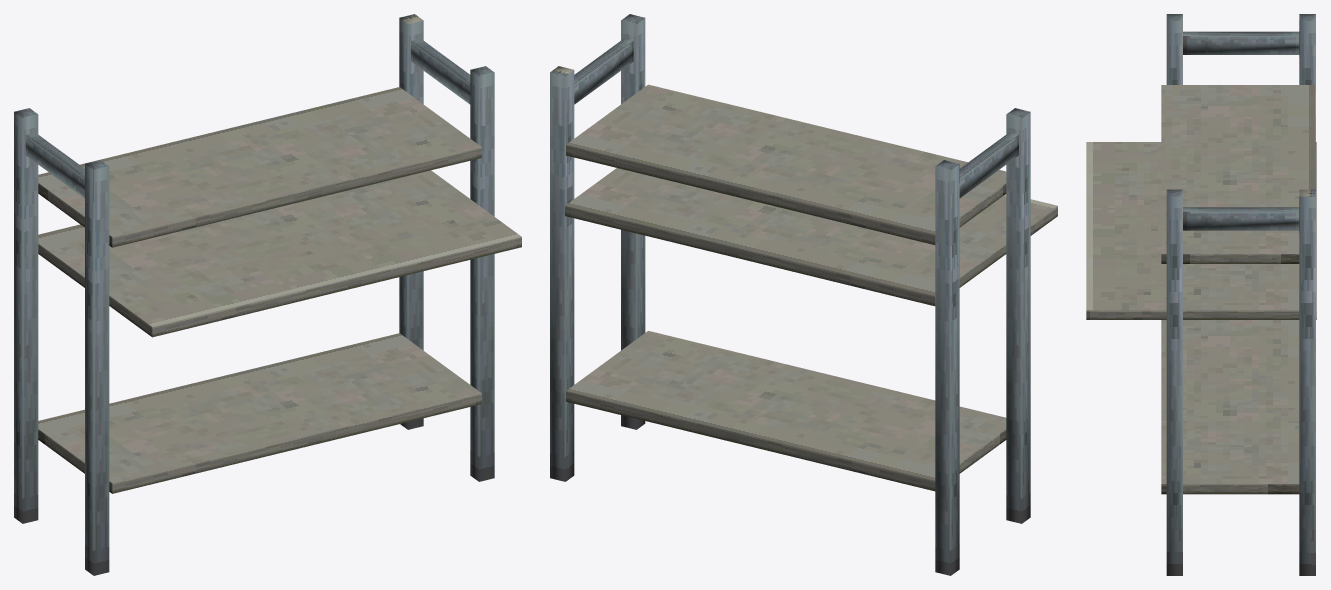
File: ComputerTable_02.glb
The picture shows the model from 3 angles, left to right: view 1: azimuth 30°, elevation 25°; view 2: azimuth 150°, elevation 25°; view 3: azimuth 270°, elevation 25°; orthographic projection. The views are drawn at different scales.
Parts seen in each view (by area): view 1: COMPUTERTABLE_02; view 2: COMPUTERTABLE_02; view 3: COMPUTERTABLE_02.
Part boxes in pixels (box(x1,y1,x2,y2)): COMPUTERTABLE_02: box(14, 14, 521, 575); COMPUTERTABLE_02: box(550, 14, 1057, 575); COMPUTERTABLE_02: box(1086, 14, 1316, 575).
Bounding box in the file's own units: 1.13 × 1.1 × 0.603.
Materials: 1 (1 with a texture image).
